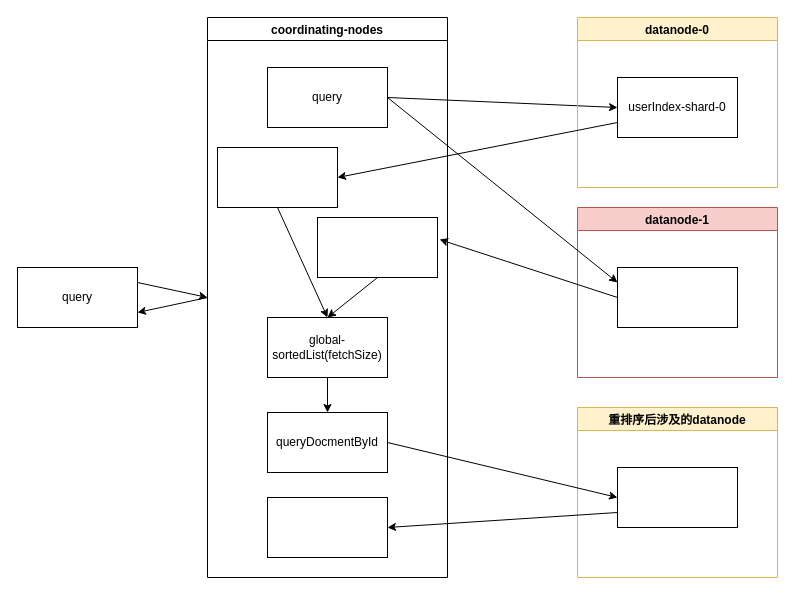
The diagram is 795 pixels wide and 595 high, and some of its shapes have lost their labels. The shapes that lost their labels are listed below. From the top down, each one's centre as x and y in pixels, then its label:
At point (277, 177): "shard-0-sortedList".
At point (377, 247): "shard-1-sortedList".
At point (677, 297): "userIndex-shard-1".
At point (677, 497): "重排序后涉及的userIndex-shard".
At point (327, 527): "query-result".
